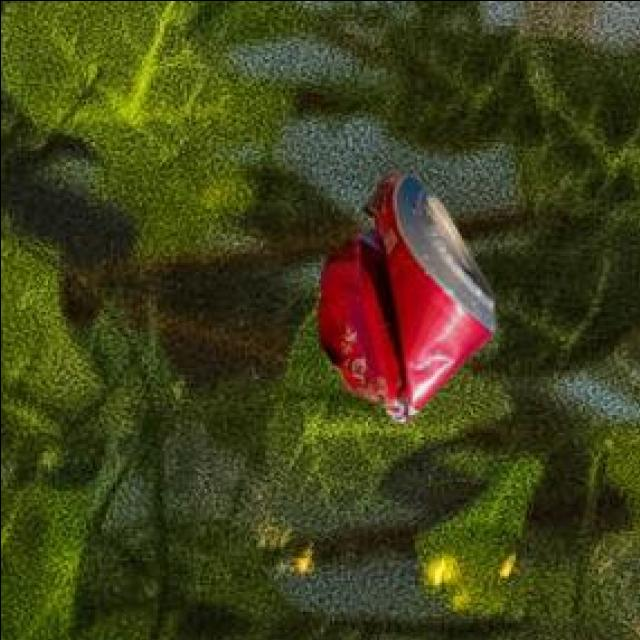logam: (314, 176, 489, 424)
